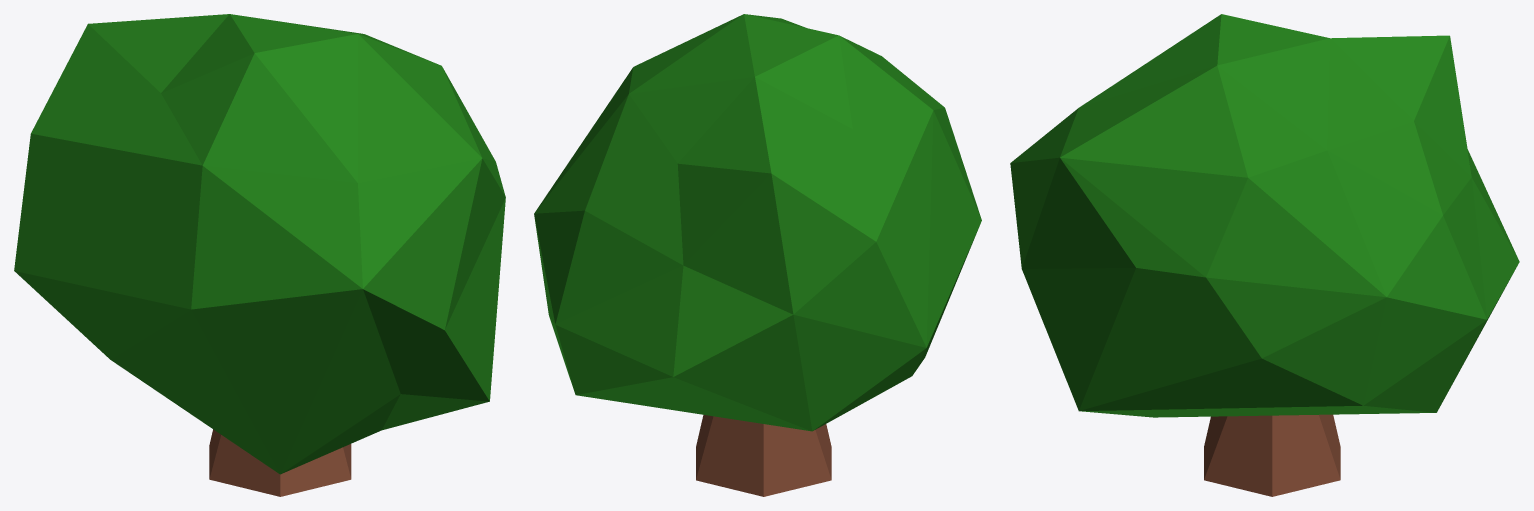
The model's file is bush_1_summer_mat.fbx.
The picture shows the model from 3 angles, left to right: view 1: azimuth 30°, elevation 25°; view 2: azimuth 150°, elevation 25°; view 3: azimuth 270°, elevation 25°; orthographic projection. The views are drawn at different scales.
Parts seen in each view (by area): view 1: bush_1_summer_mat; view 2: bush_1_summer_mat; view 3: bush_1_summer_mat.
Part boxes in pixels (<box>): bush_1_summer_mat: <box>14,14,505,496</box>; bush_1_summer_mat: <box>534,14,981,496</box>; bush_1_summer_mat: <box>1010,14,1519,496</box>.
Bounding box in the file's own units: 1.64 × 1.69 × 1.83.
